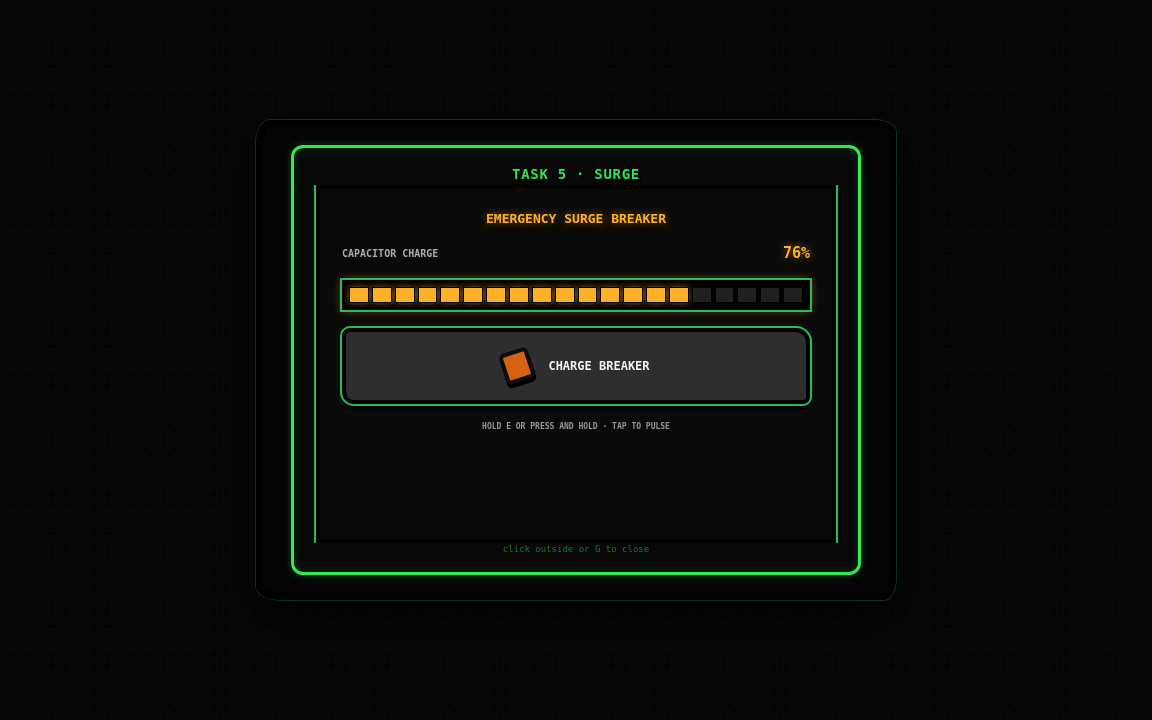
Test: office wire completion › charges the surge breaker with taps and waits for its completion flash
The image size is (1152, 720).
Earlier steps of the test are not shown.
What coordinates should you click on to do the following:
click the button with aria-label "Charge emergency surge breaker"
I would click on:
 (576, 366)
Its box is [342, 328, 810, 404].
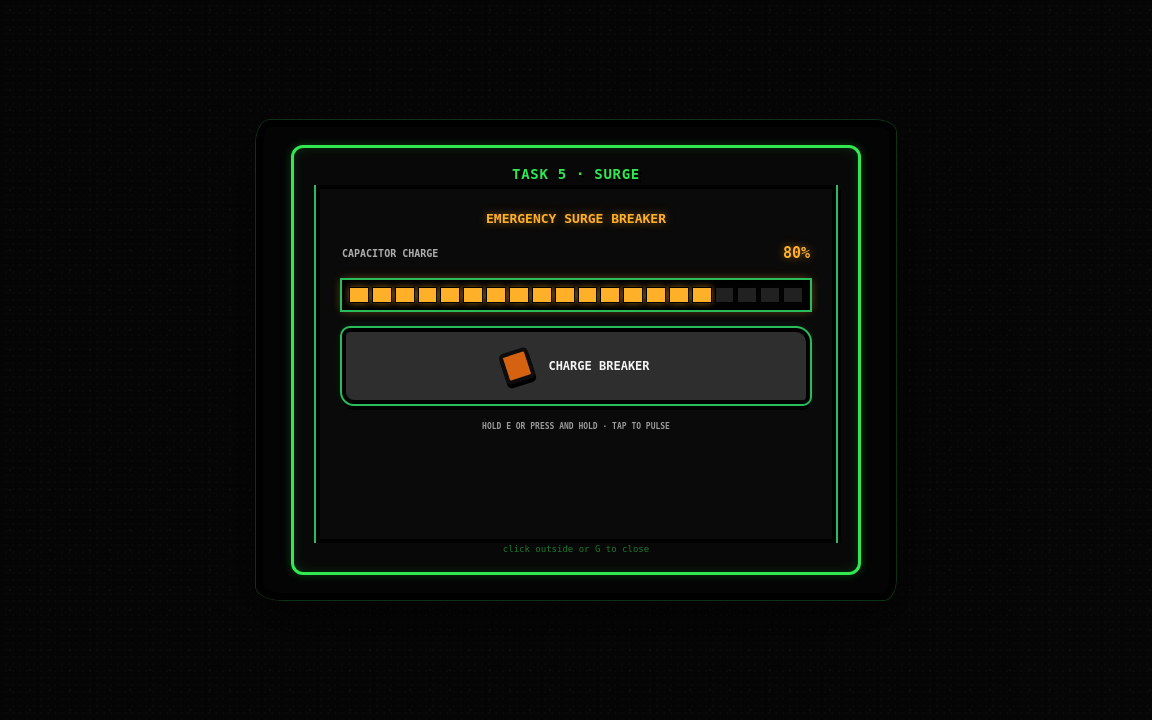
What coordinates should you click on to do the following:
click the button with aria-label "Charge emergency surge breaker"
I would click on:
 (576, 366)
Its box is [342, 328, 810, 404].
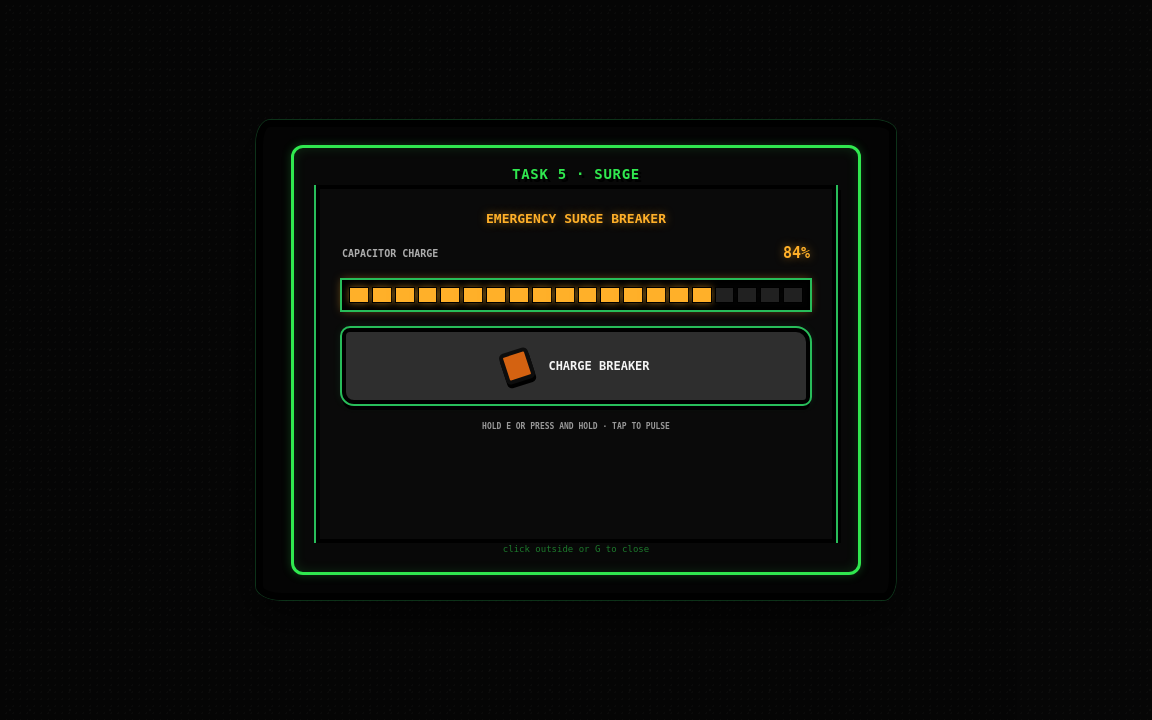
What coordinates should you click on to do the following:
click the button with aria-label "Charge emergency surge breaker"
I would click on:
 (576, 366)
Its box is [342, 328, 810, 404].
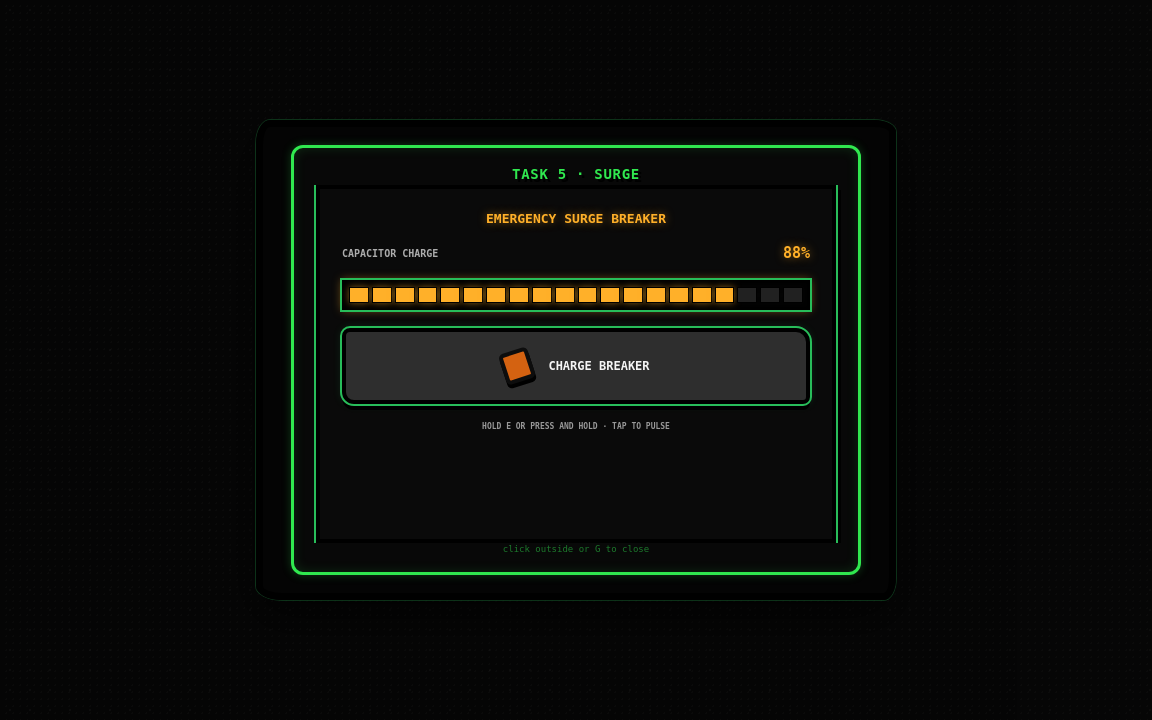
What coordinates should you click on to do the following:
click the button with aria-label "Charge emergency surge breaker"
I would click on:
 (576, 366)
Its box is [342, 328, 810, 404].
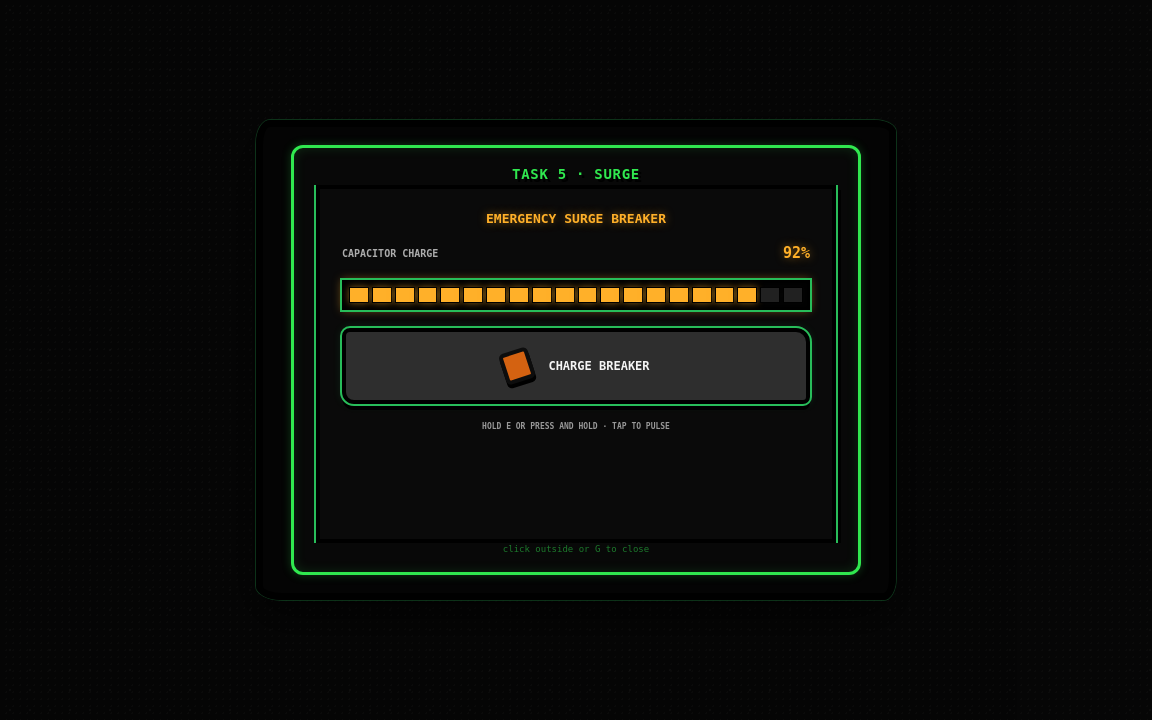
What coordinates should you click on to do the following:
click the button with aria-label "Charge emergency surge breaker"
I would click on:
 (576, 366)
Its box is [342, 328, 810, 404].
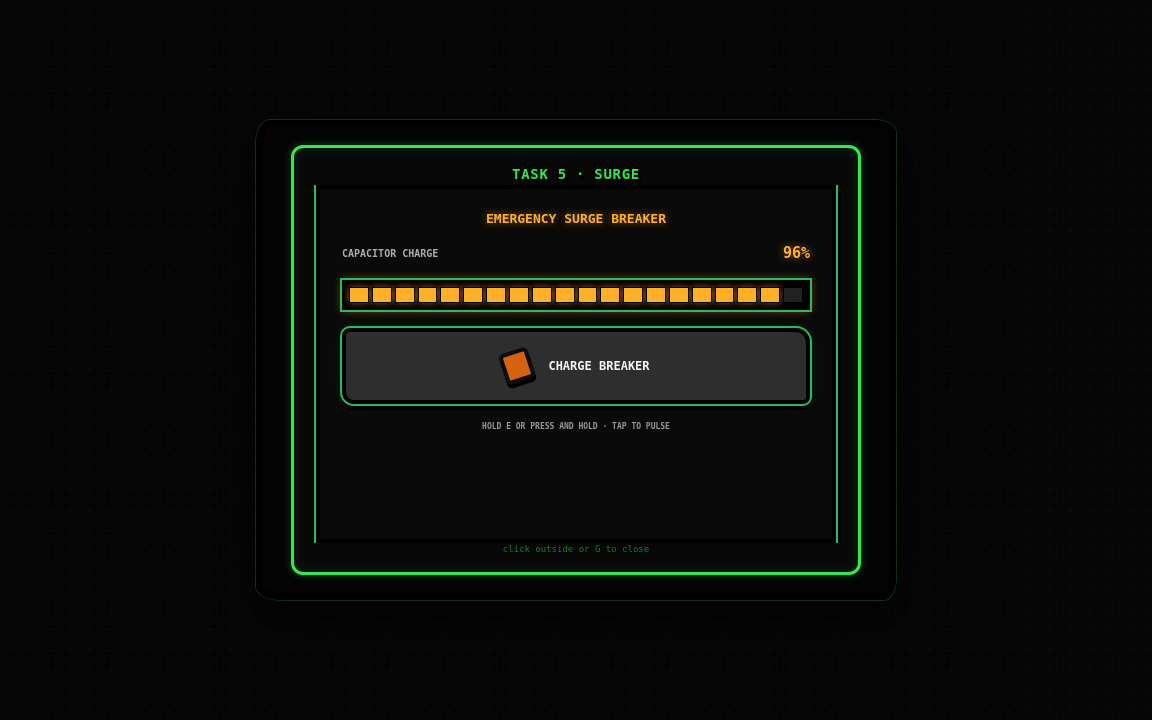
Result: the element named "Capacitor charge" has attribute aria-valuenow="96" at [342, 280, 810, 310]
What coordinates should you click on to do the following:
click the button with aria-label "Charge emergency surge breaker"
I would click on:
 (576, 366)
Its box is [342, 328, 810, 404].
Wait 350 ms
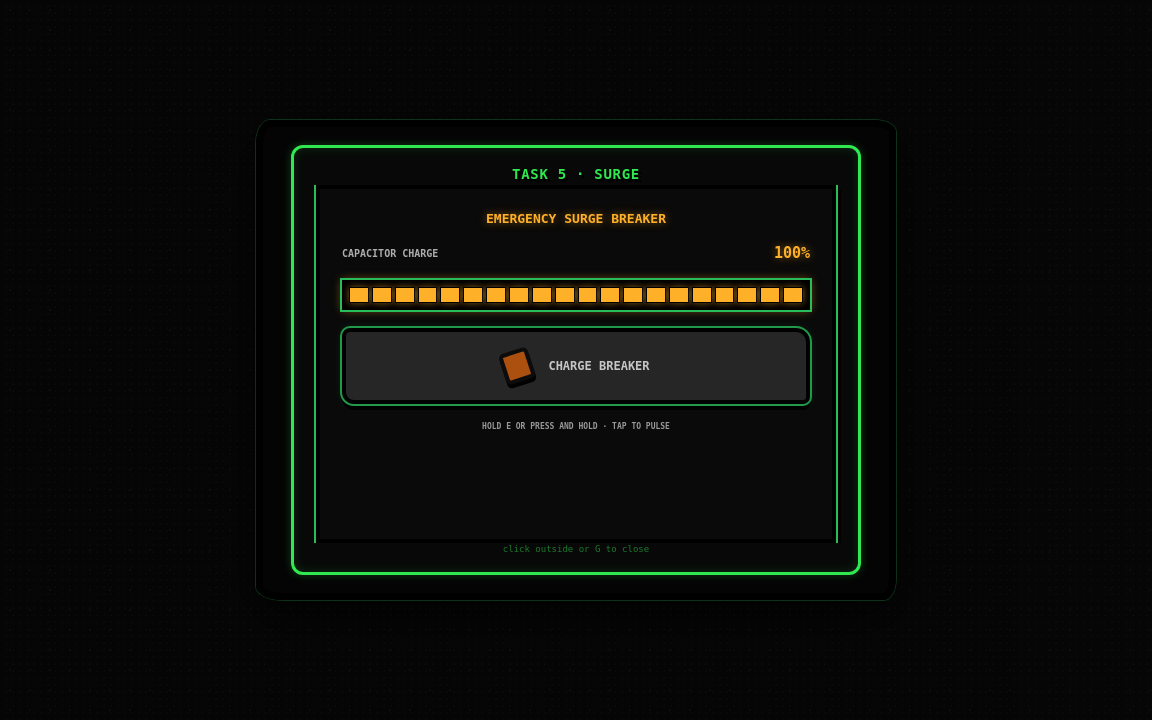
Result: the element named "Capacitor charge" has attribute aria-valuenow="100" at [342, 280, 810, 310]
